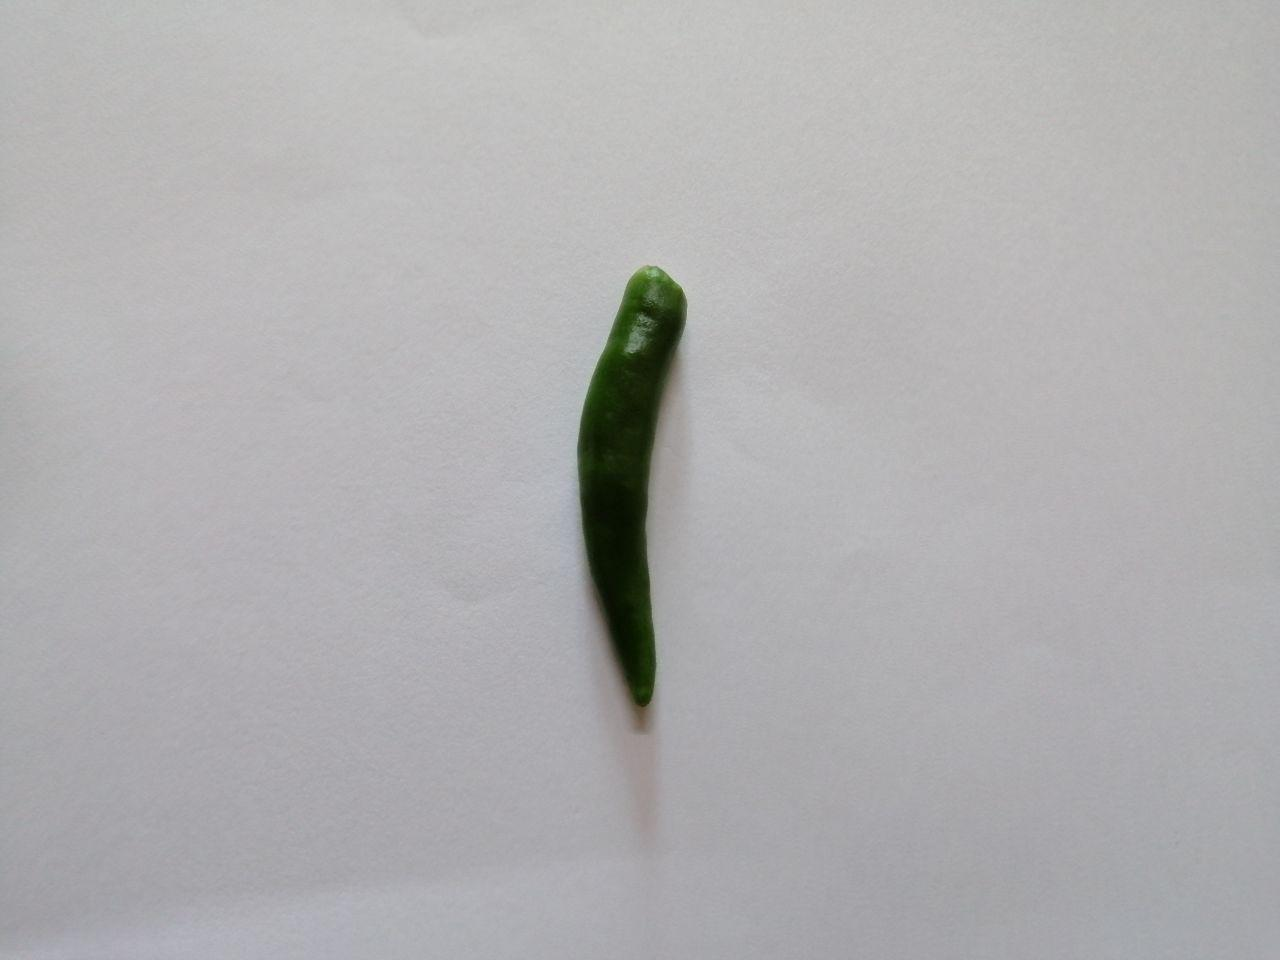lada hijau: (565, 255, 690, 731)
